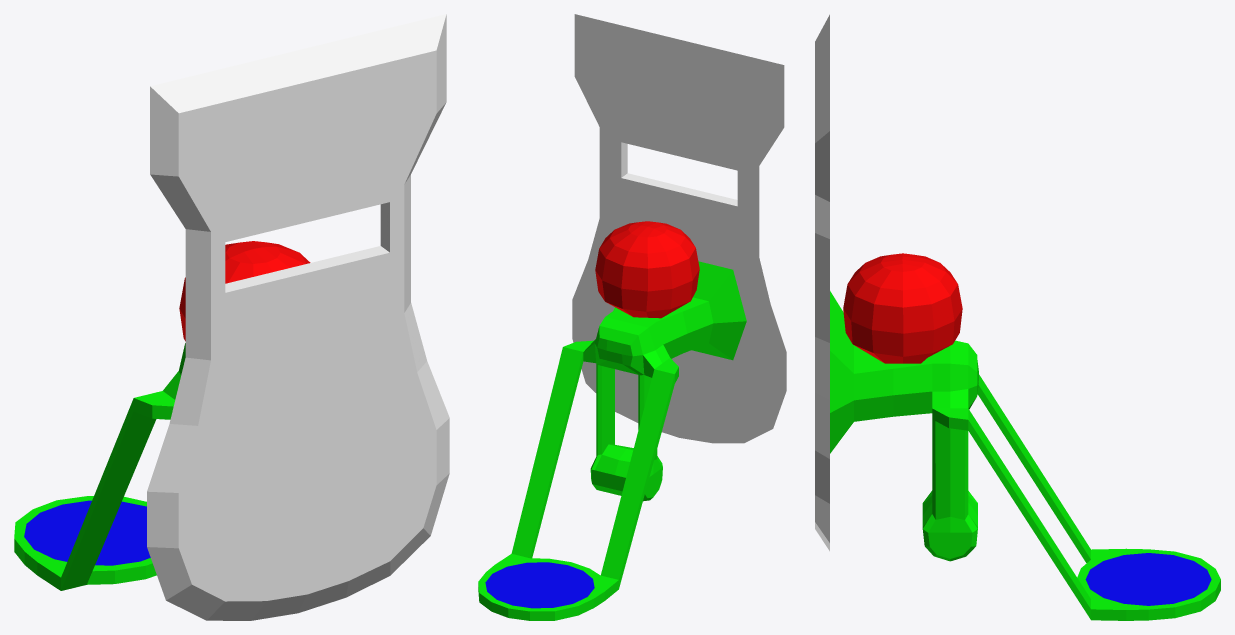
The model's file is Escudo.glb.
3 renders of one model, left to right at view 1: azimuth 30°, elevation 25°; view 2: azimuth 150°, elevation 25°; view 3: azimuth 270°, elevation 25°, orthographic. The views are drawn at different scales.
Parts seen in each view (by area): view 1: Escudo; view 2: Escudo; view 3: Escudo.
Boxes of the visible parts, x1,y1,x2,y2 form: Escudo: (14,14,449,620); Escudo: (478,14,786,620); Escudo: (815,14,1220,620).
Bounding box in the file's own units: 0.94 × 1.9 × 1.35.
